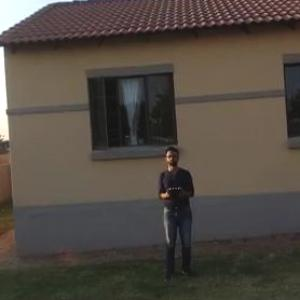follow: (156, 142, 200, 290)
